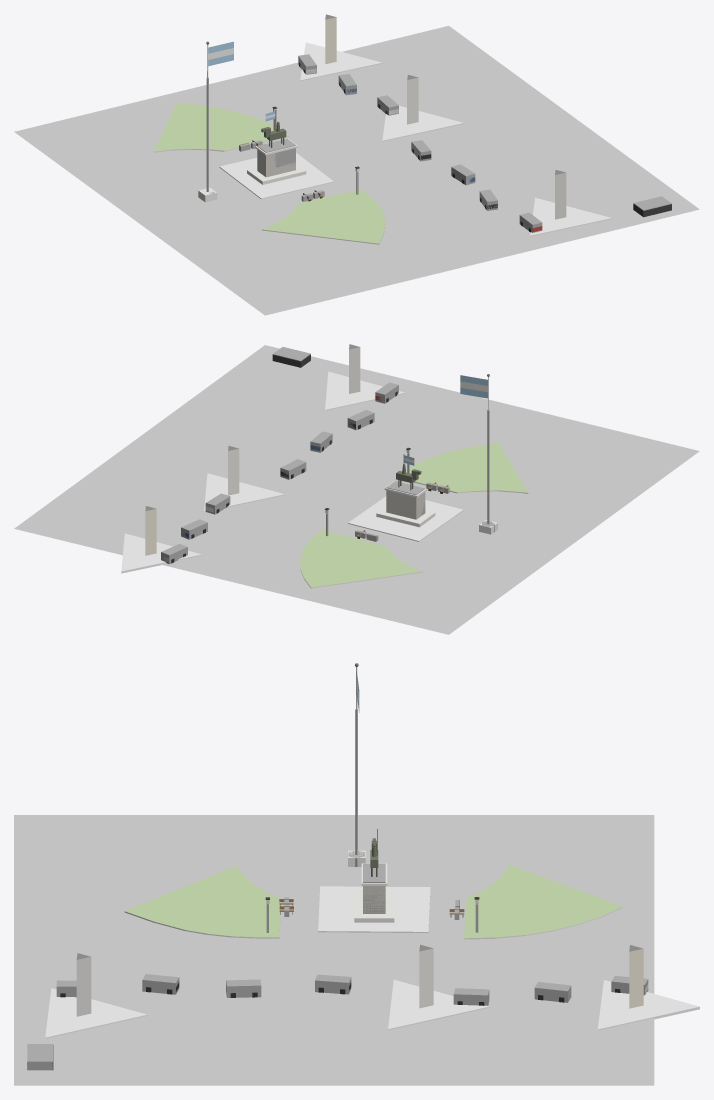
Rendered from chunk_04_02.glb.
The picture shows the model from 3 angles, top to bottom: view 1: azimuth 30°, elevation 25°; view 2: azimuth 150°, elevation 25°; view 3: azimuth 270°, elevation 25°; orthographic projection. The views are drawn at different scales.
Parts seen in each view (by area): view 1: chunk_04_02_LOD0, chunk_04_02_COL; view 2: chunk_04_02_LOD0, chunk_04_02_COL; view 3: chunk_04_02_LOD0, chunk_04_02_COL.
Boxes of the visible parts, x1,y1,x2,y2 form: chunk_04_02_LOD0: [14, 14, 699, 315]; chunk_04_02_COL: [201, 54, 671, 232]; chunk_04_02_LOD0: [14, 344, 699, 634]; chunk_04_02_COL: [161, 347, 494, 564]; chunk_04_02_LOD0: [14, 663, 699, 1085]; chunk_04_02_COL: [27, 709, 648, 1070].
Size of what is drawn, in the model's own units: 80 by 27.85 by 85.7.
